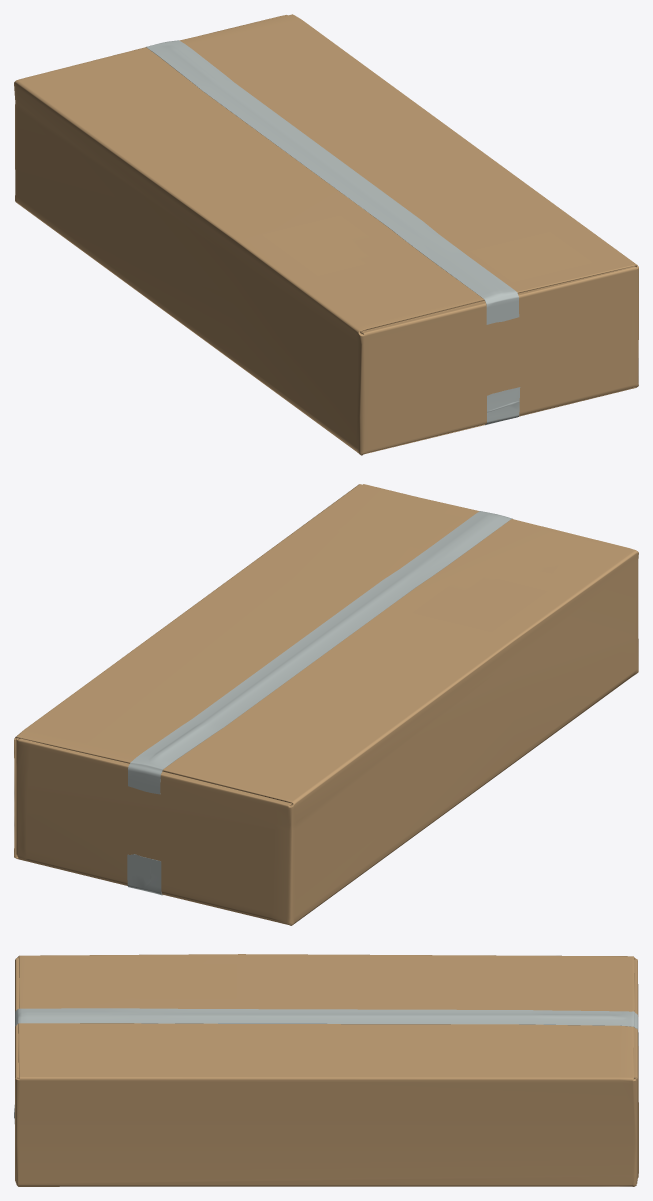
The model's file is box_flat_a10.glb.
3 renders of one model, top to bottom at view 1: azimuth 30°, elevation 25°; view 2: azimuth 150°, elevation 25°; view 3: azimuth 270°, elevation 25°, orthographic. The views are drawn at different scales.
Bounding box in the file's own units: 0.261 × 0.1137 × 0.5621.
